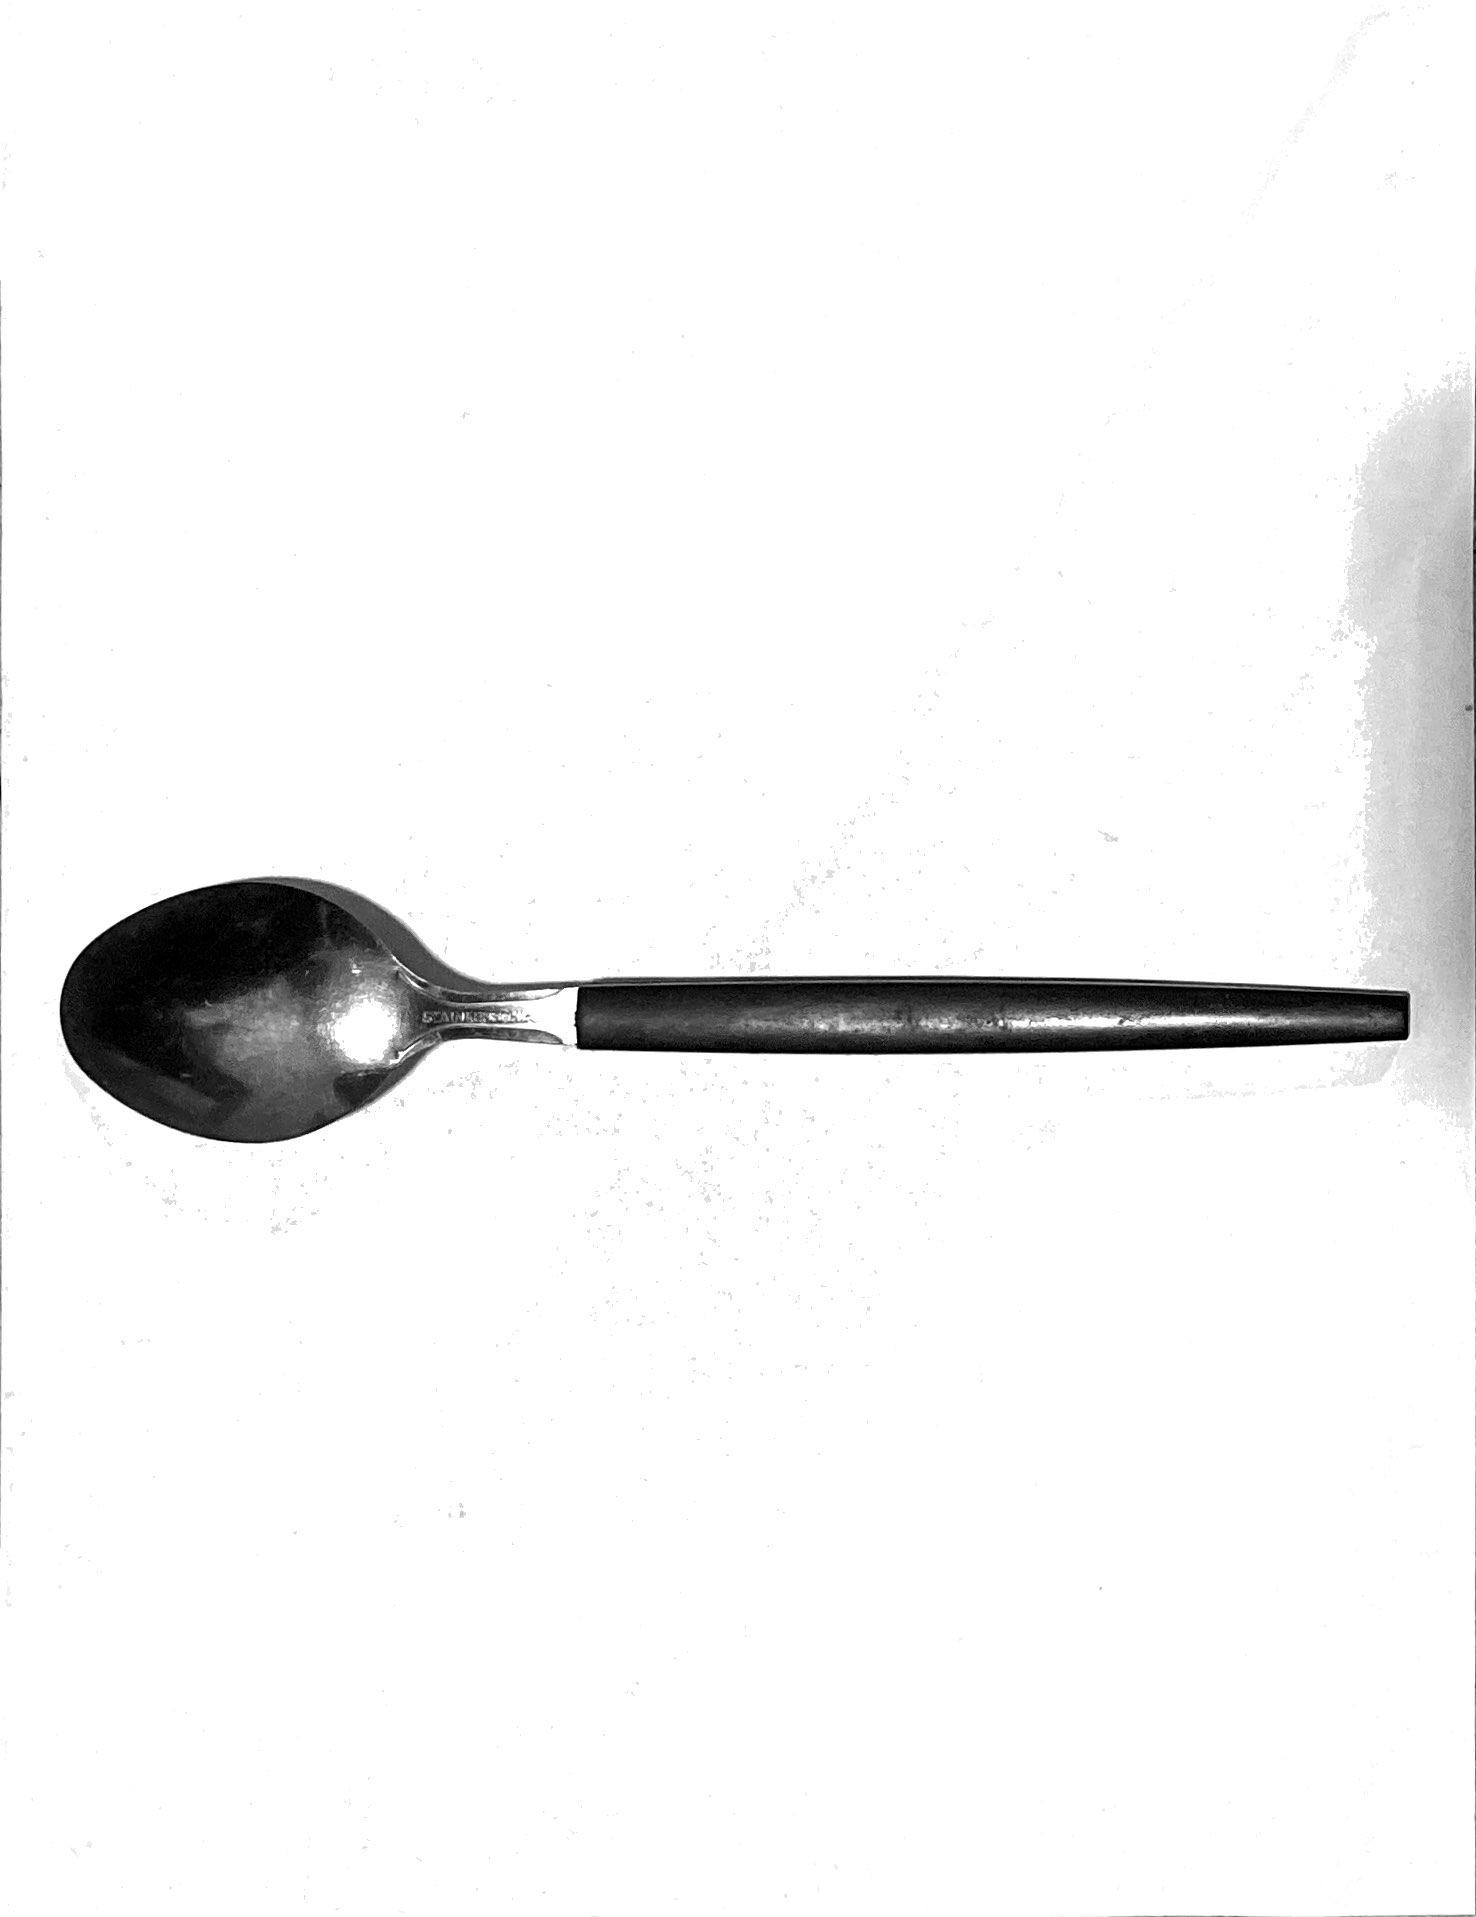Spoon: (36, 828, 1439, 1382)
